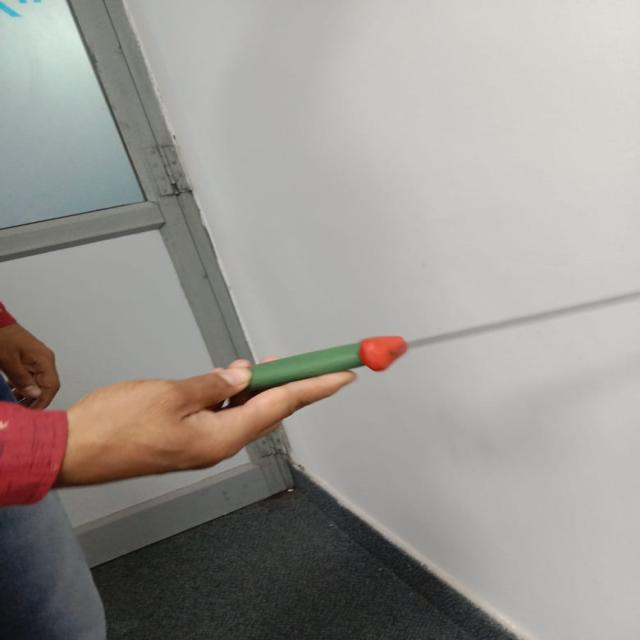Knife: (246, 292, 639, 391)
